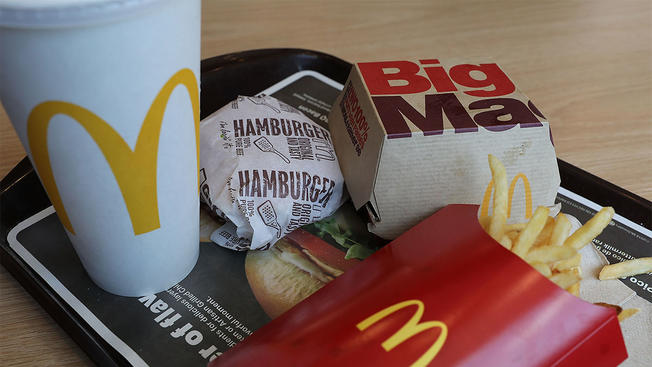mcdonalds: (347, 291, 464, 367)
